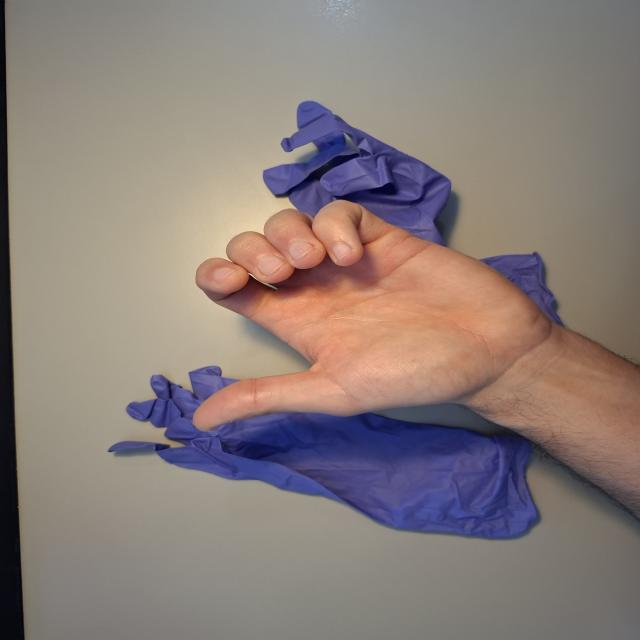glove_off: (191, 197, 561, 435)
